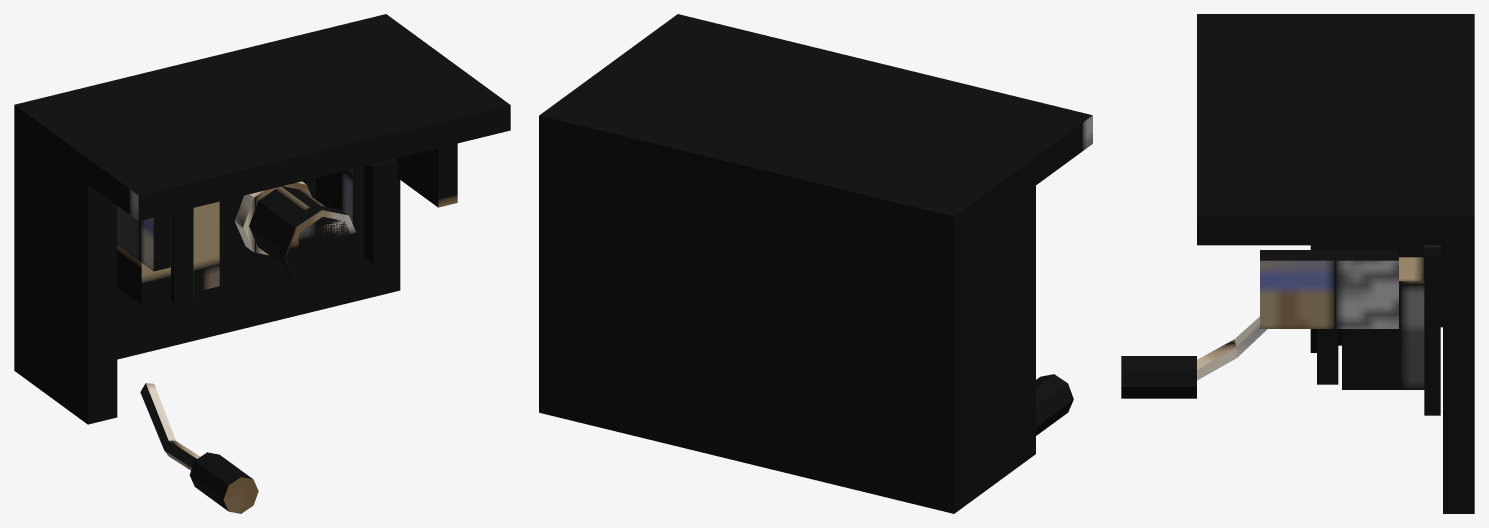
File: pz_house_makeshift_ham_open_v2.obj
3 renders of one model, left to right at view 1: azimuth 30°, elevation 25°; view 2: azimuth 150°, elevation 25°; view 3: azimuth 270°, elevation 25°, orthographic. The views are drawn at different scales.
Visible parts, largest first — view 1: pz_house_makeshift_ham_open_v2; view 2: pz_house_makeshift_ham_open_v2; view 3: pz_house_makeshift_ham_open_v2.
Boxes of the visible parts, <box> form: pz_house_makeshift_ham_open_v2: <box>14,14,510,513</box>; pz_house_makeshift_ham_open_v2: <box>539,14,1092,513</box>; pz_house_makeshift_ham_open_v2: <box>1121,14,1474,513</box>.
Size of the model in its own units: 0.38 by 0.303 by 0.28.
